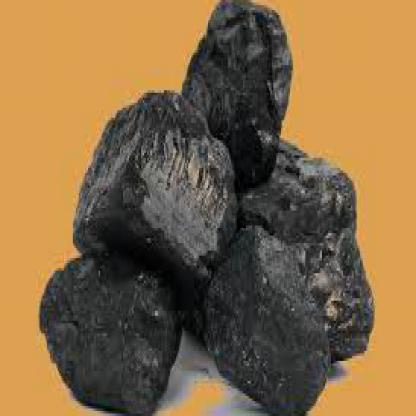Sedimentary_coal: (62, 85, 230, 273), (201, 208, 346, 413), (29, 248, 184, 414), (179, 0, 292, 193)
